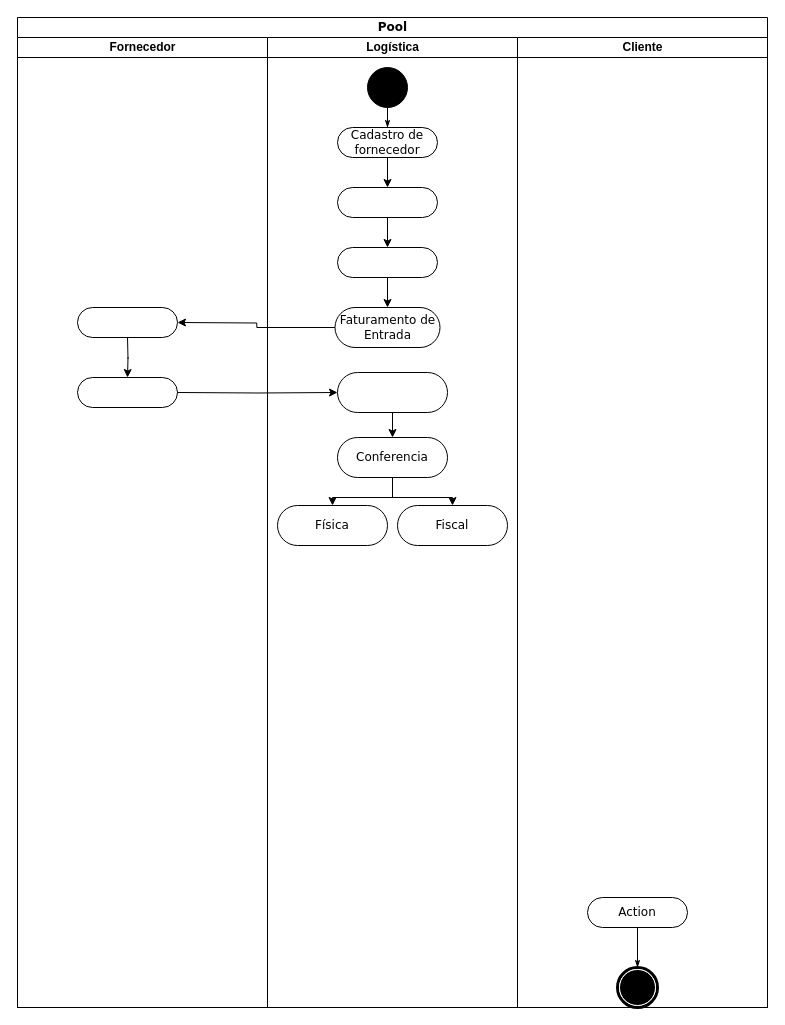
Some shapes in this 785 by 1025 pixel diagram are drawn without their labels. Here are the shapes that lost their labels. From the top down, the centre of each, then its label:
At point (387, 202): "Compra do Pedido".
At point (387, 262): "Ordem de Compra".
At point (127, 322): "Prepara o Pedido".
At point (127, 392): "Faz a Entrega do Pedido".
At point (392, 392): "Recebe a Mercadoria (NF)".
